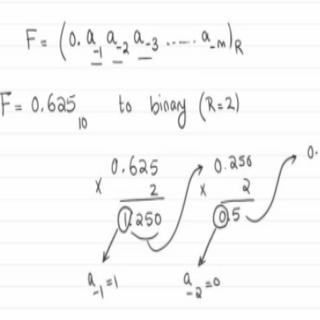.: (39, 104, 45, 113), (120, 167, 126, 174)
0: (30, 94, 40, 114), (212, 155, 222, 174), (153, 211, 163, 227), (110, 156, 118, 175), (306, 144, 314, 159)
2: (240, 175, 253, 196), (147, 181, 161, 197), (227, 153, 239, 171), (223, 95, 236, 110), (134, 211, 144, 227)
5: (148, 157, 161, 177), (66, 93, 76, 114), (143, 210, 153, 229)
6: (46, 92, 56, 113), (129, 154, 137, 176)
